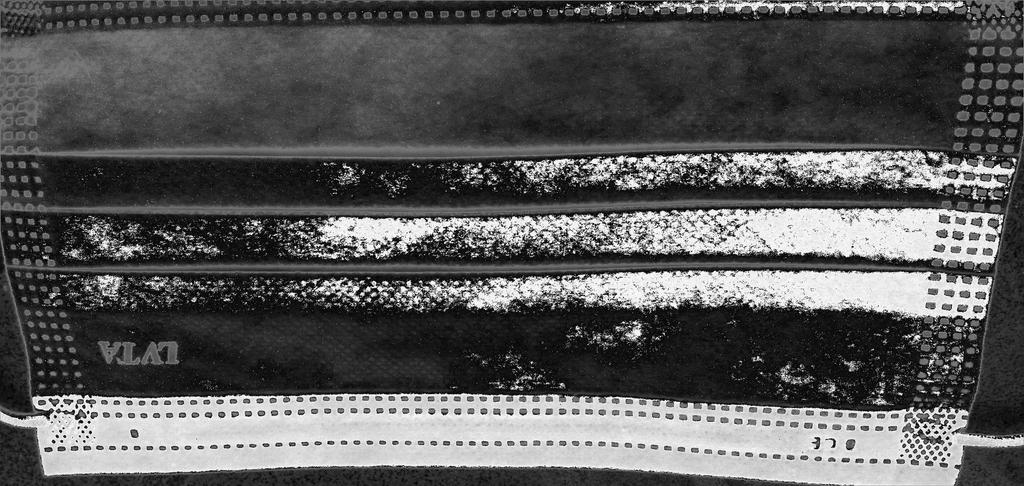High GSM: (32, 23, 955, 409)
